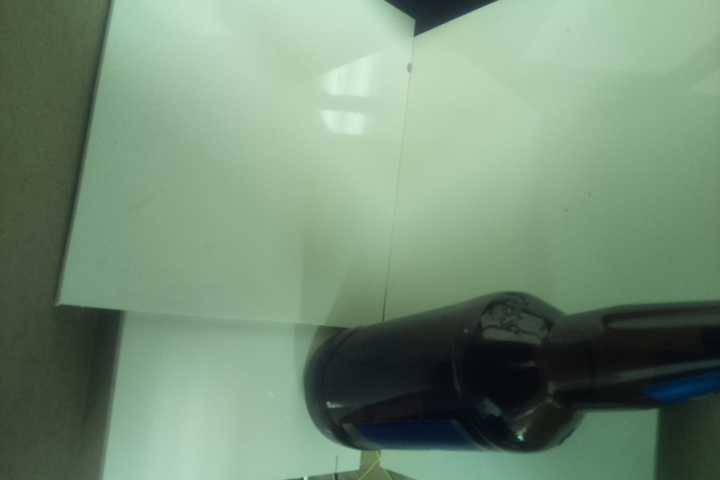makju: (299, 290, 720, 456)
